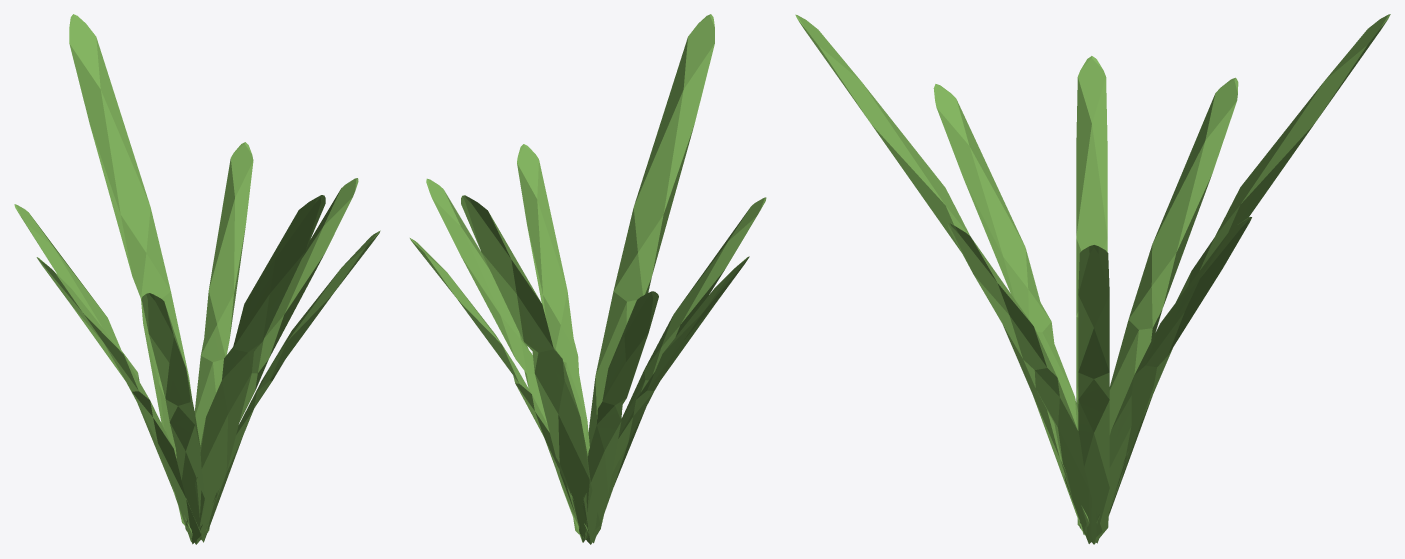
File: Low poly plant Light.fbx
3 views of the same model, side by side, from view 1: azimuth 30°, elevation 25°; view 2: azimuth 150°, elevation 25°; view 3: azimuth 270°, elevation 25° (orthographic). The views are drawn at different scales.
Parts seen in each view (by area): view 1: Cube.003; view 2: Cube.003; view 3: Cube.003.
Boxes of the visible parts, <box> form: Cube.003: <box>14,14,380,544</box>; Cube.003: <box>410,14,766,544</box>; Cube.003: <box>795,14,1390,544</box>.
Bounding box in the file's own units: 39.45 × 51.33 × 52.51.
